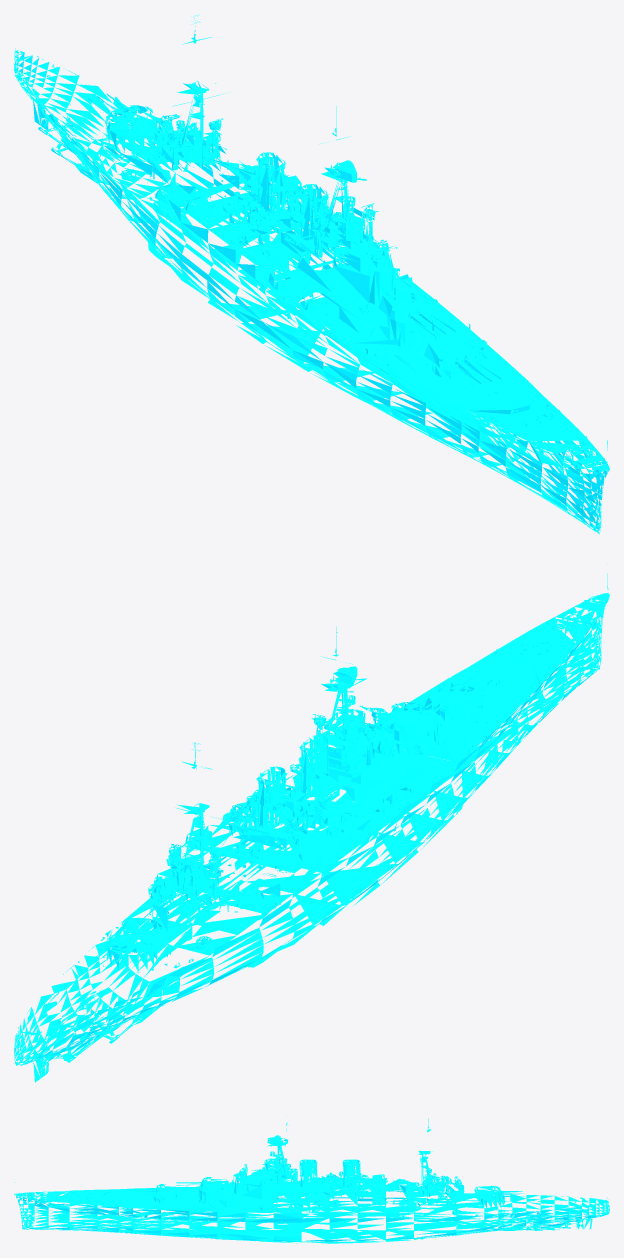
File: PBSB207.glb
3 renders of one model, top to bottom at view 1: azimuth 30°, elevation 25°; view 2: azimuth 150°, elevation 25°; view 3: azimuth 270°, elevation 25°, orthographic. The views are drawn at different scales.
Visible parts, largest first — view 1: hull_body; view 2: hull_body; view 3: hull_body.
Boxes of the visible parts, x1,y1,x2,y2 form: hull_body: (14, 14, 609, 534); hull_body: (14, 563, 609, 1082); hull_body: (14, 1116, 609, 1243).
Size of the model in its own units: 2.01 by 3.84 by 17.46.
